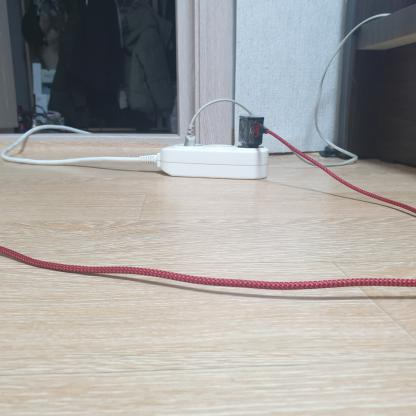multiOutlet: (159, 143, 270, 181)
wire: (2, 245, 416, 291), (270, 131, 416, 218), (1, 135, 156, 168)
